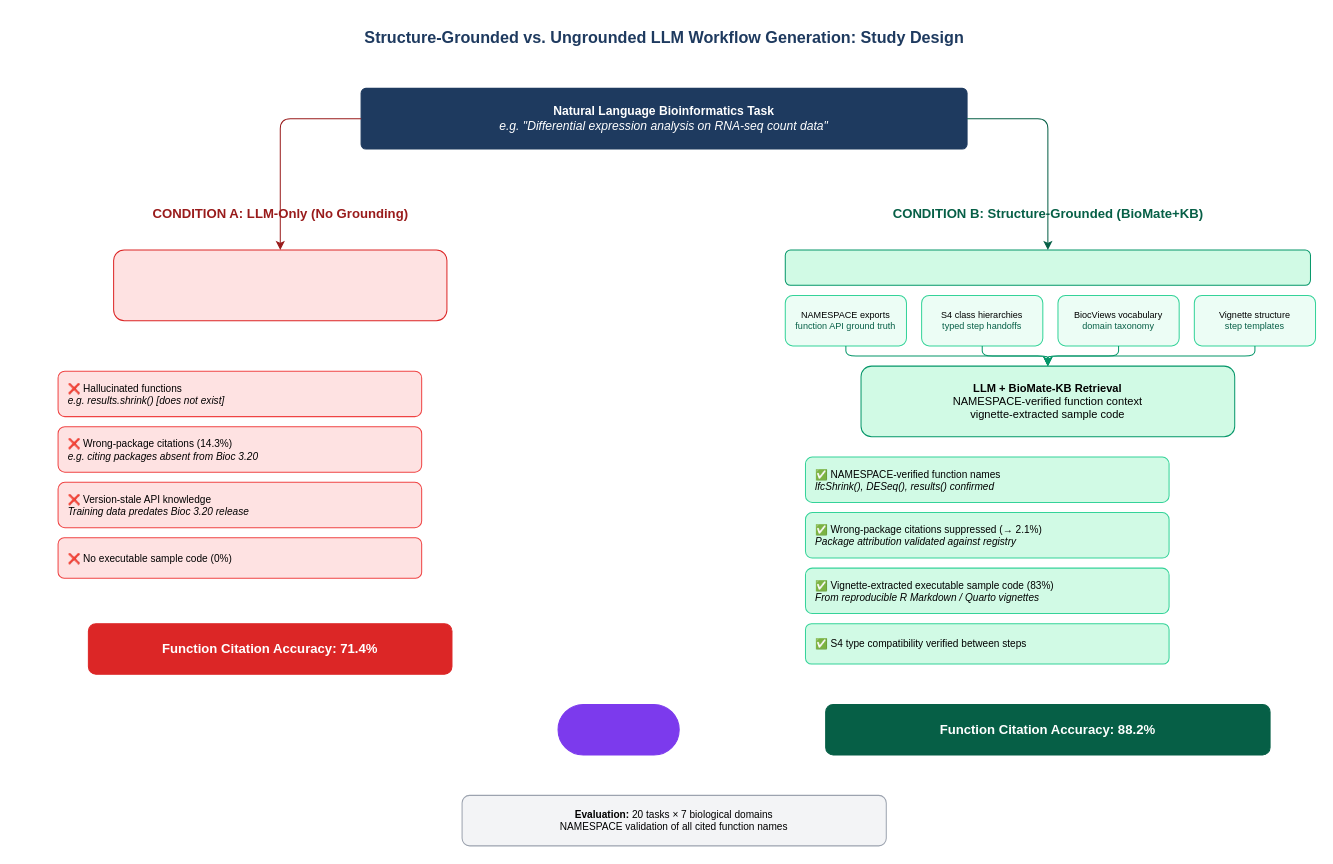
Image size: 1333x864. Some labels were removed from this diagram. The shapes that lost their labels are listed below. From the top down, each one's centre as x and y in pixels, then its label:
At [280,285]: "Frontier LLM (Claude Sonnet / GPT-4) Pre-training knowledge only".
At [1047,267]: "Bioconductor Structural Constraints".
At [618,729]: "+16.8 pp".
